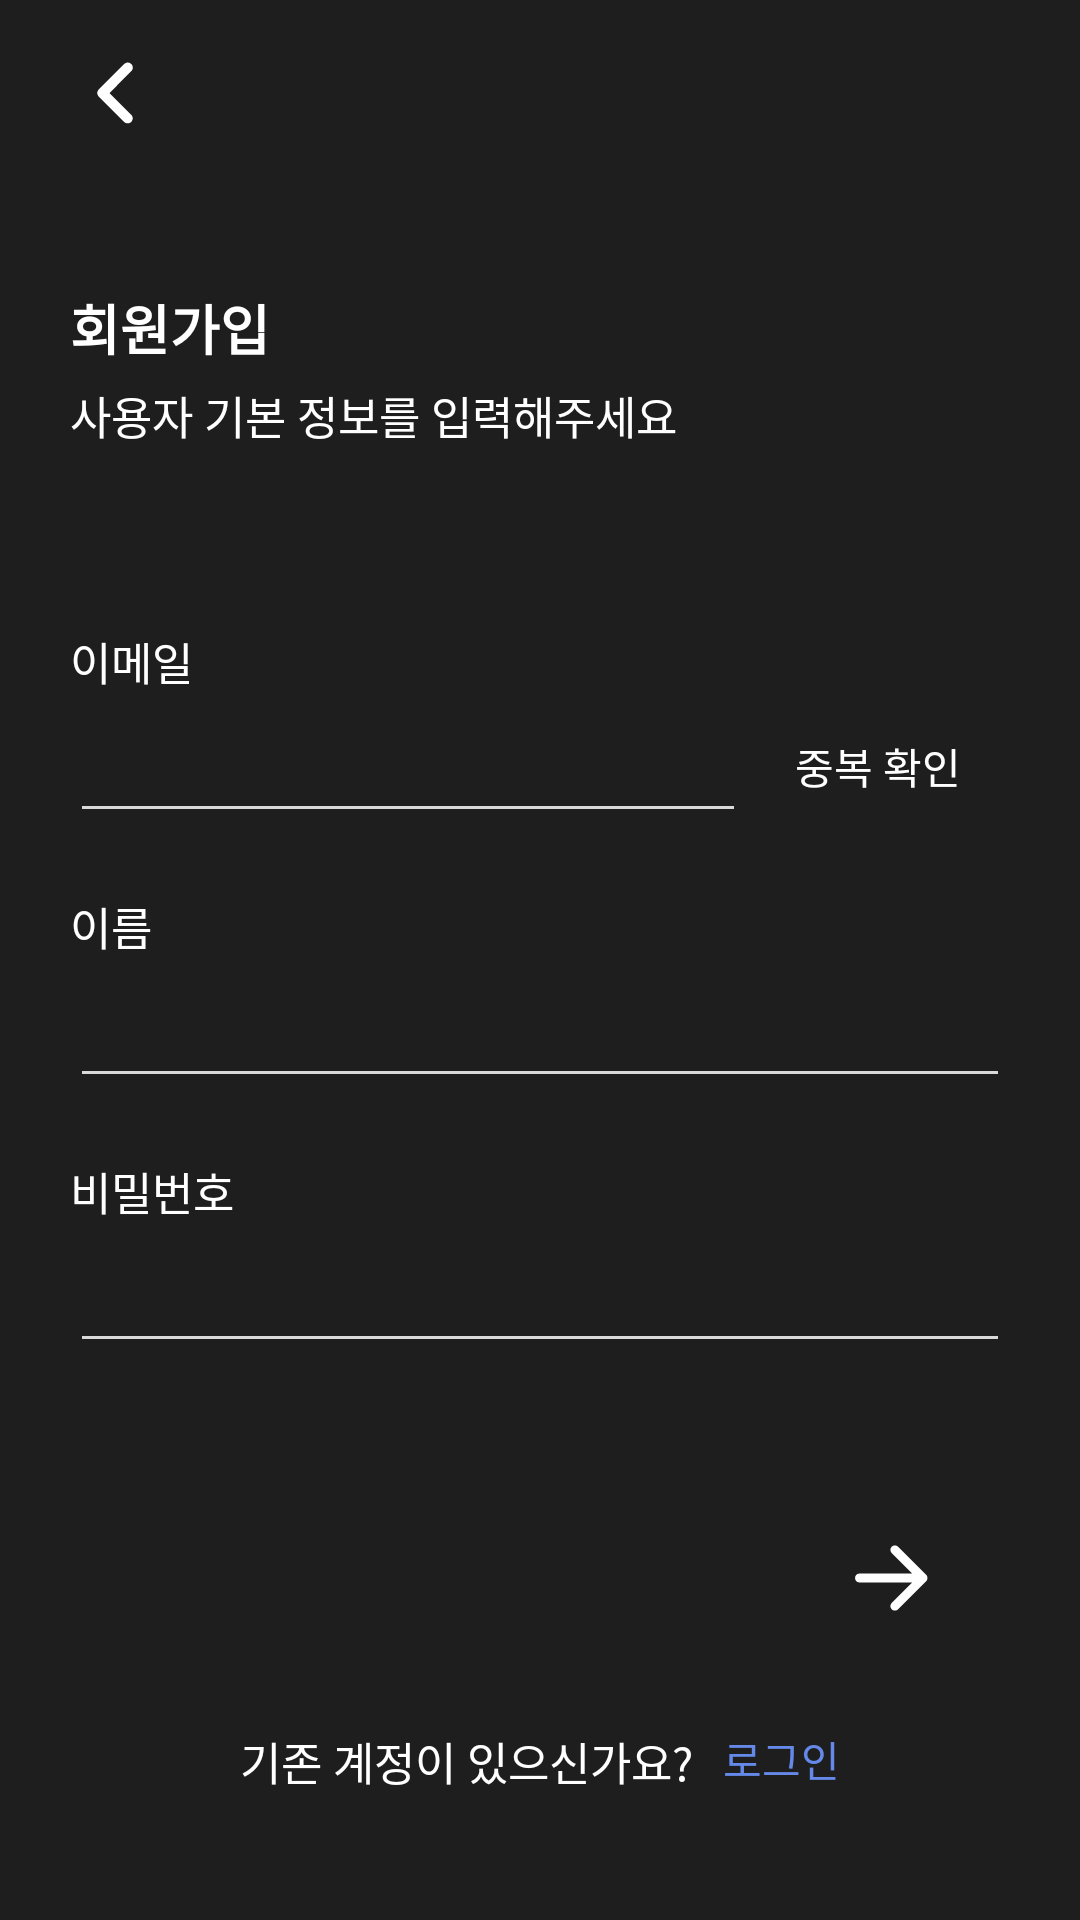

Icons on this 1080px×1920px Android screen, each with the point to tap as (x,y):
back: (115,93)
next: (891,1578)
